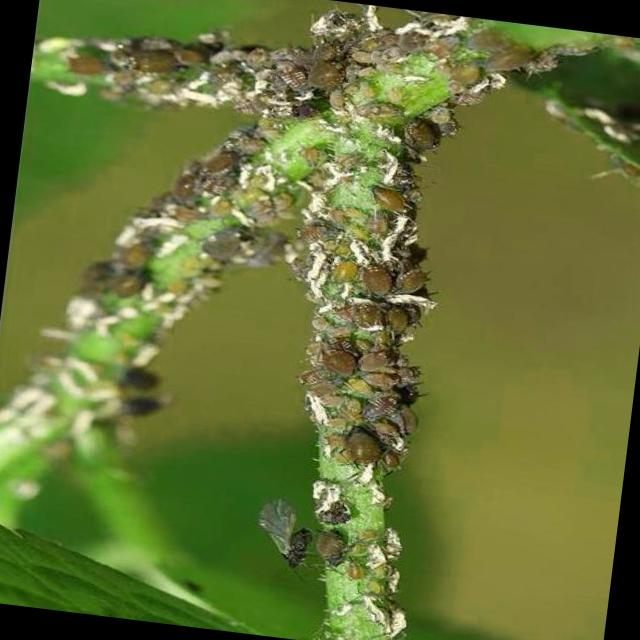aphid: (317, 235, 434, 308), (326, 287, 424, 348), (78, 247, 152, 304), (289, 334, 371, 385), (379, 108, 459, 156), (328, 422, 388, 475), (363, 400, 419, 444), (200, 230, 248, 266), (130, 44, 181, 77), (310, 528, 348, 567), (306, 56, 346, 92), (119, 363, 162, 396), (120, 238, 153, 272), (370, 185, 408, 213), (200, 148, 234, 178), (328, 301, 359, 327), (331, 258, 360, 285), (344, 560, 366, 582)
